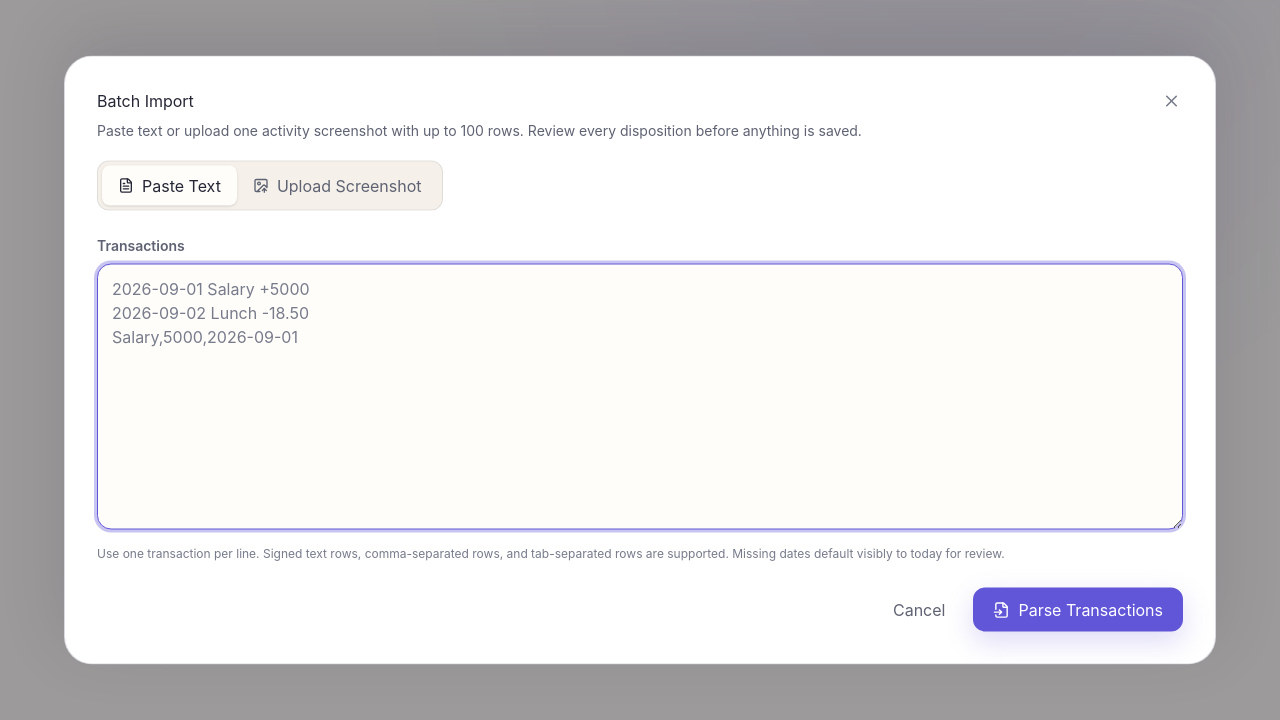
Test case: BatchImportDialog › guards against double submission while a write is in flight
Replace the text in the text box labelled "Transactions" with "2026-09-02 Lunch -18.50" at (640, 396), box [97,264,1183,530]
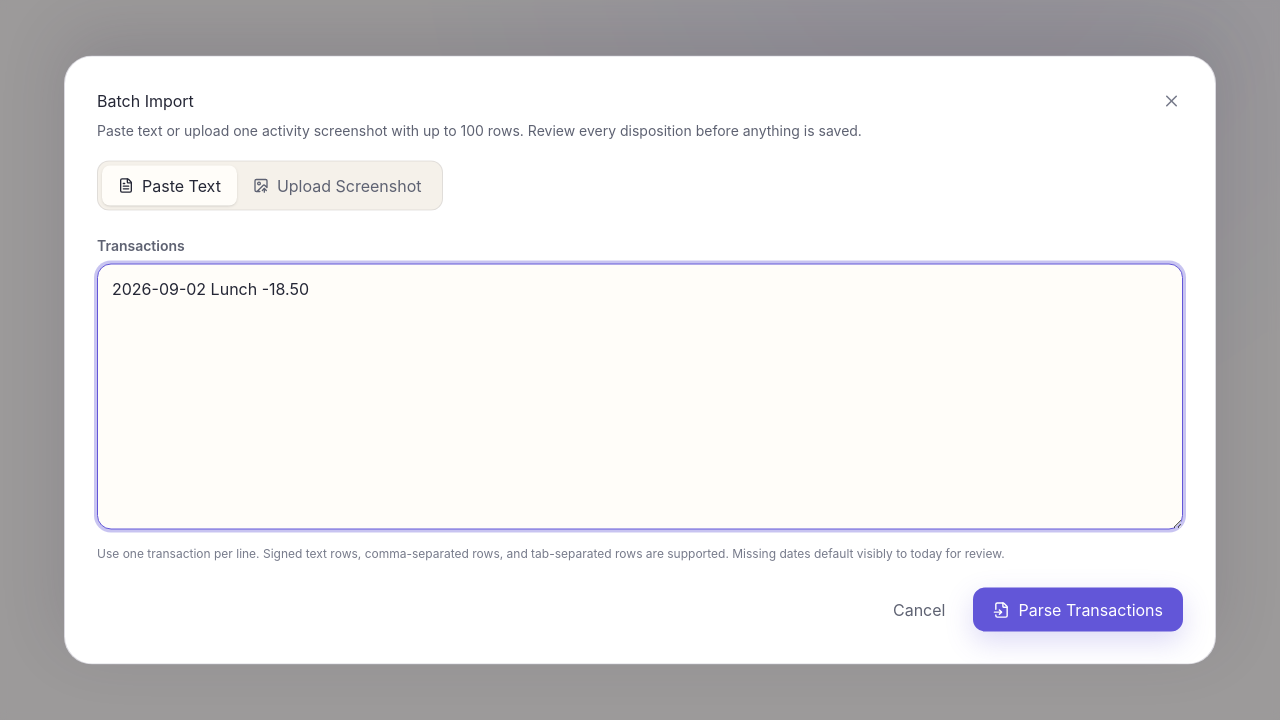
Click the button "Parse Transactions" at (1078, 610), box [973,588,1183,632]
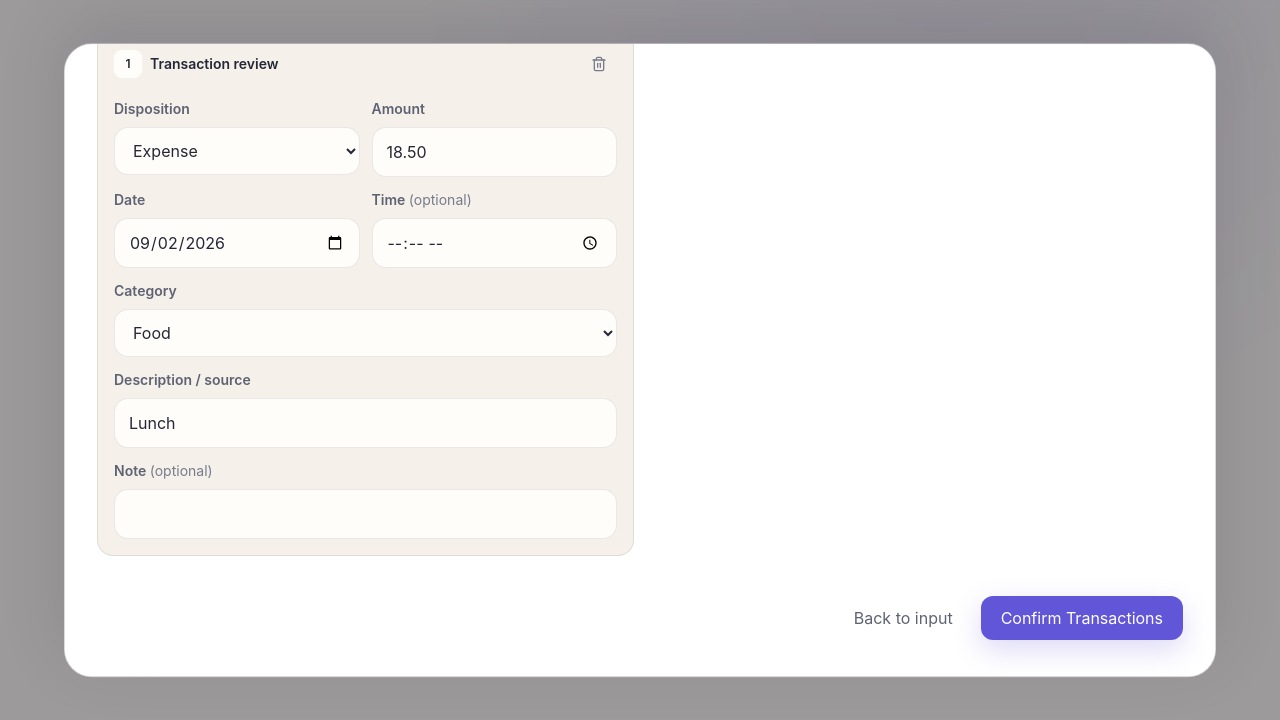
Click the button "Confirm Transactions" at (1082, 618), box [981,596,1183,640]
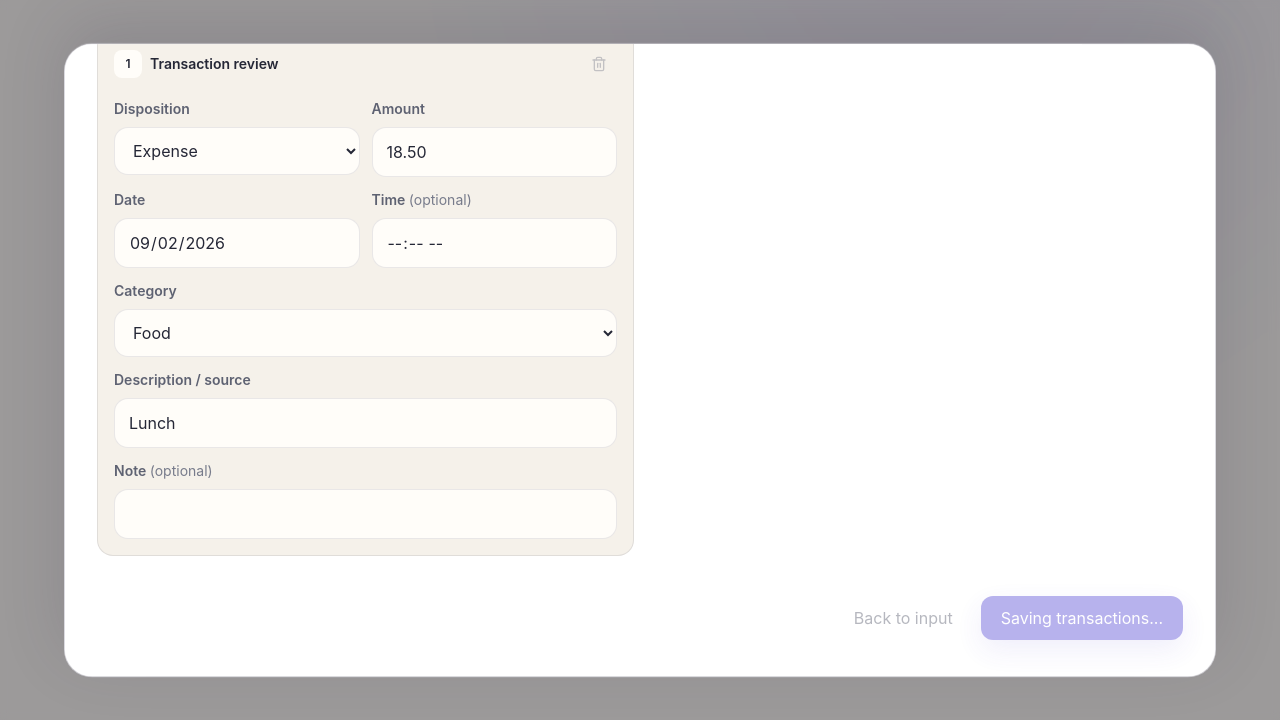
Click the button named "Confirm Transactions" at (1082, 618), box [981,596,1183,640]
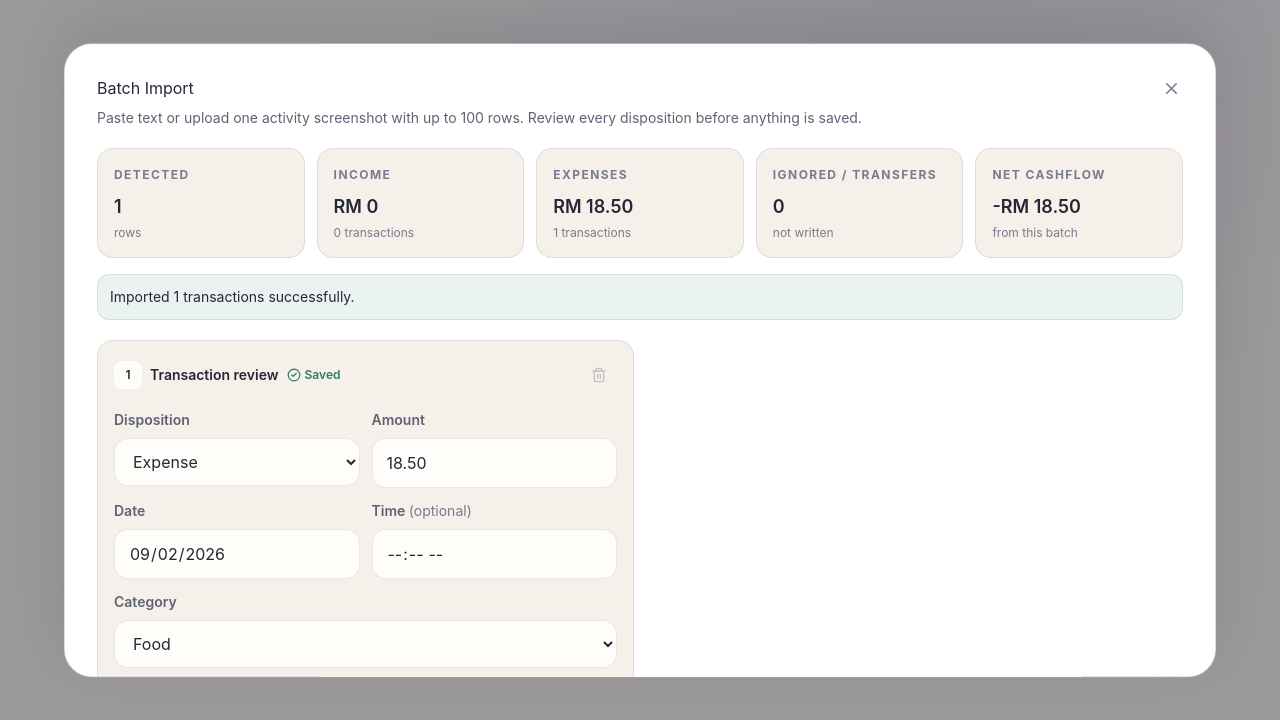
expect the text "Imported 1 transactions successfully." is shown: met, box [97,274,1183,320]
